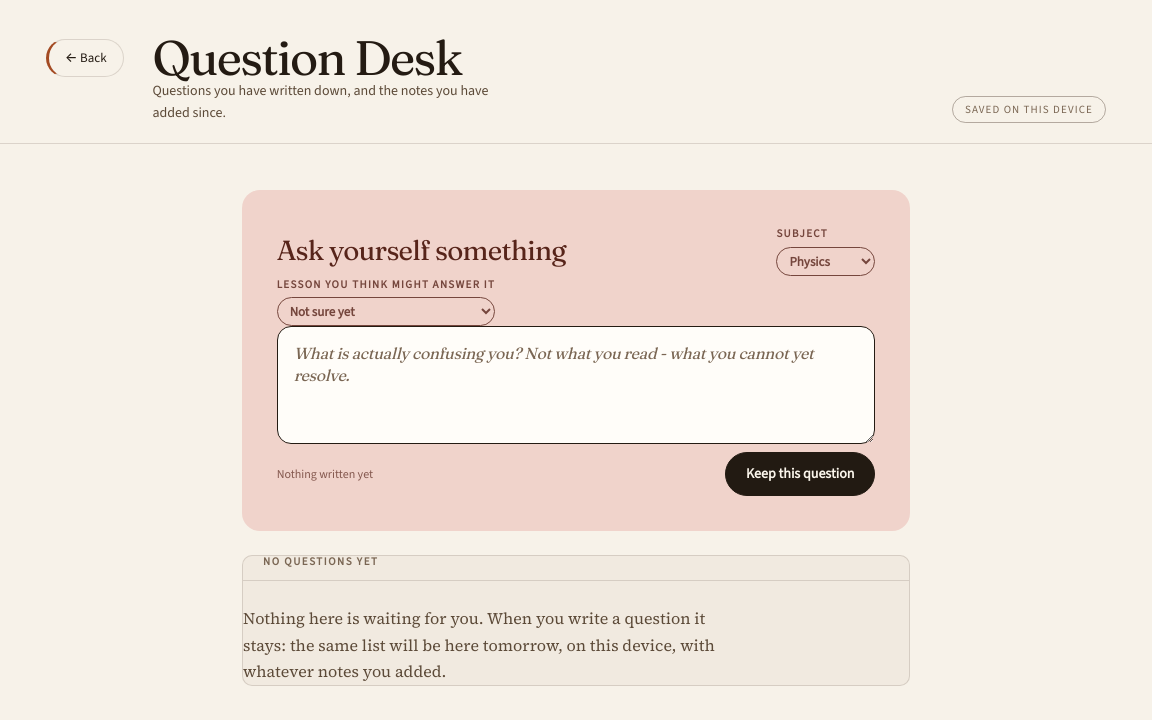
a question the learner writes is kept and comes back with its notes
Replace the text in the text box with placeholder "What is actually confusing you" with "Why does the horizon trap light past the limit?" at (576, 385), box [277,326,875,444]
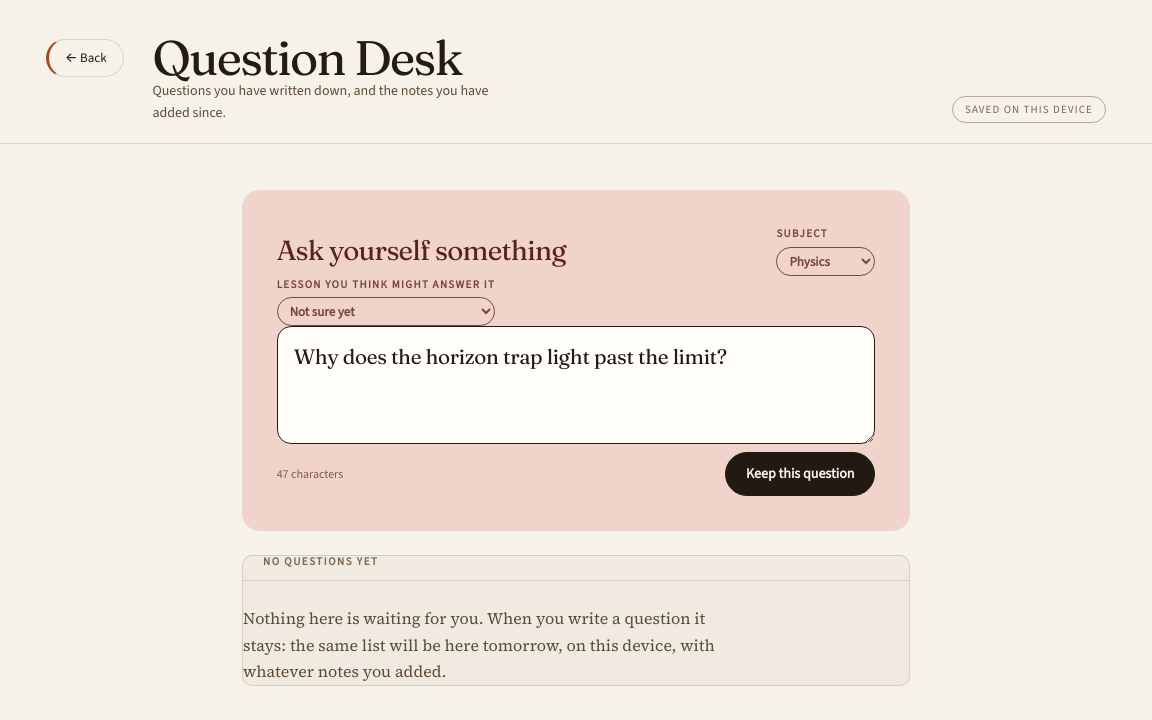
Click the button "Keep this question" at (800, 474), box [725,452,875,496]
(page scrolled)
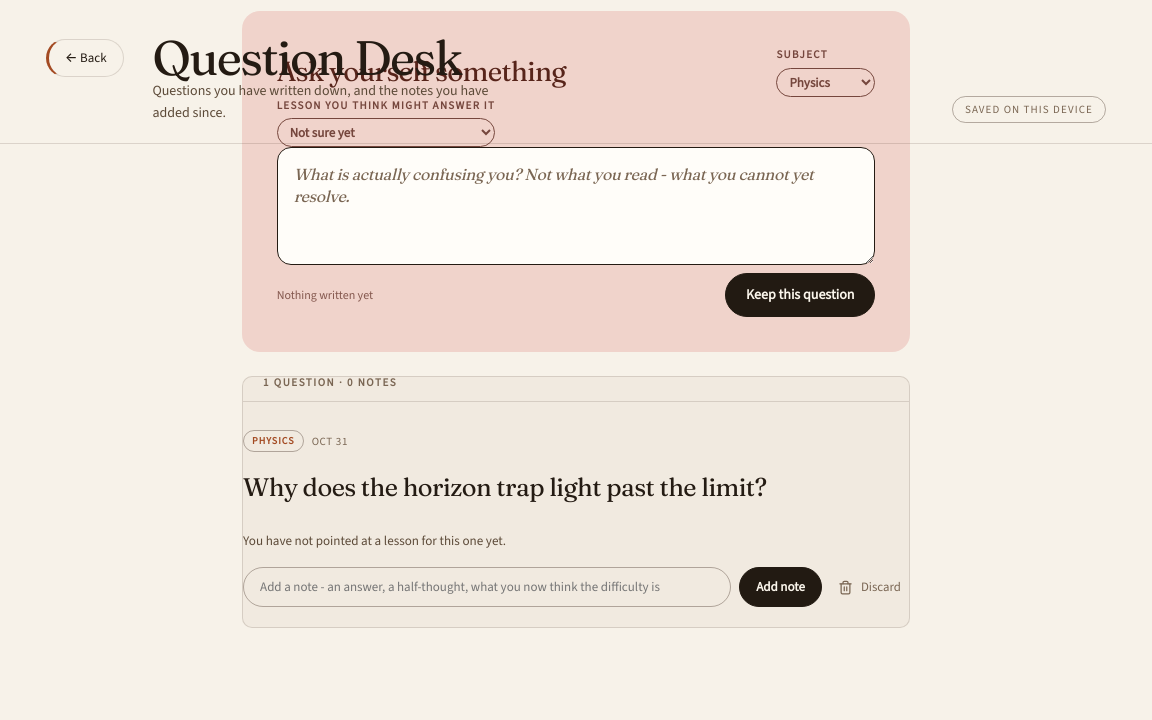
Check: the heading "Why does the horizon trap light past the limit?" is shown, box [243,471,767,502]
Check: the heading "No questions yet" is gone
Replace the text in the field with placeholder "Add a note" with "Because the coordinates stop meaning anything there." at (487, 587), box [243,567,731,607]
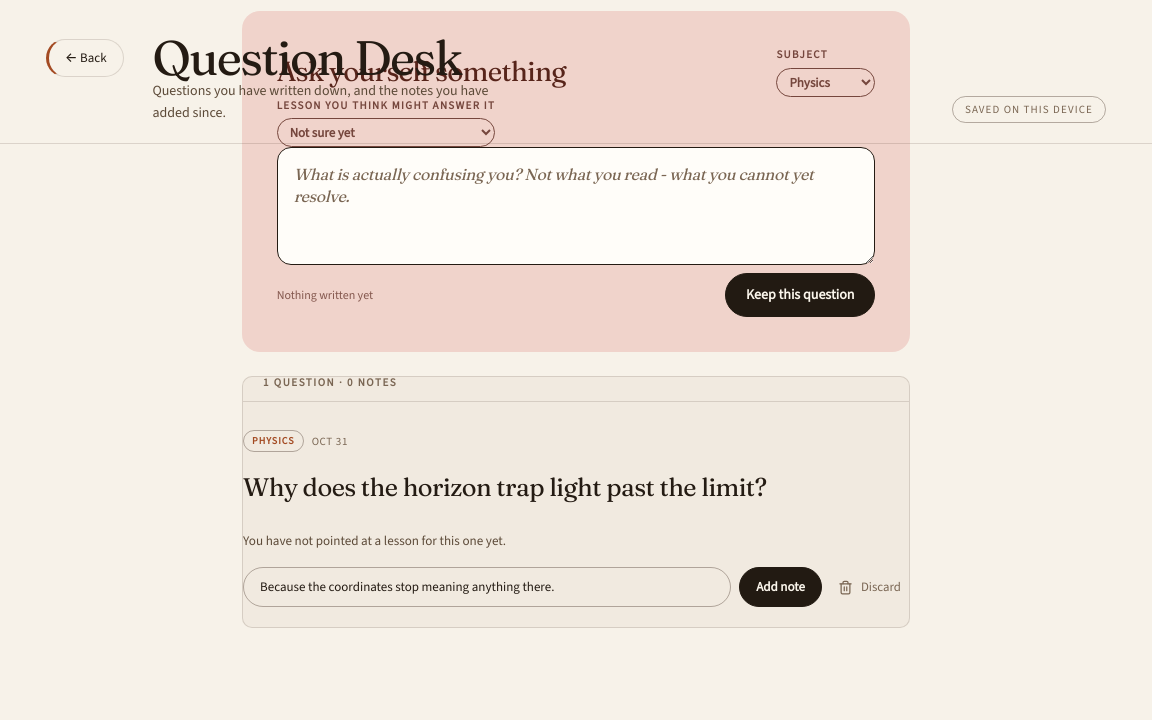
Click the button "Add note" at (781, 587), box [739,567,822,607]
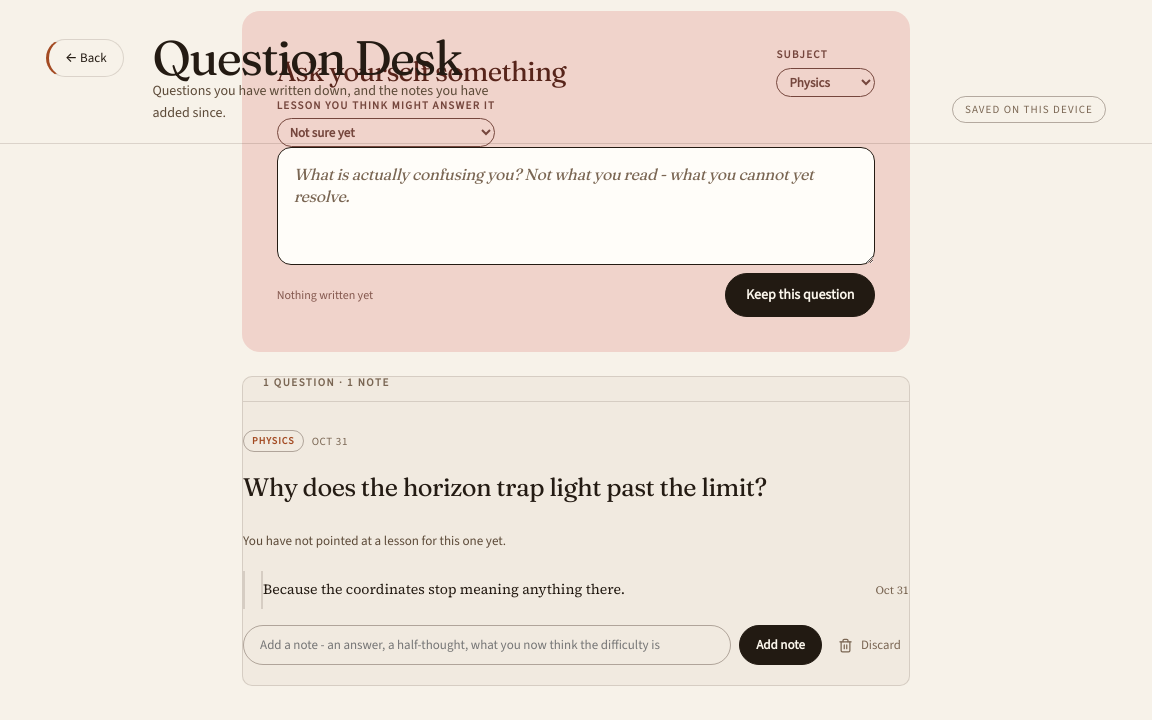
Check: the text "Because the coordinates stop meaning anything there." is shown, box [263,579,625,601]
